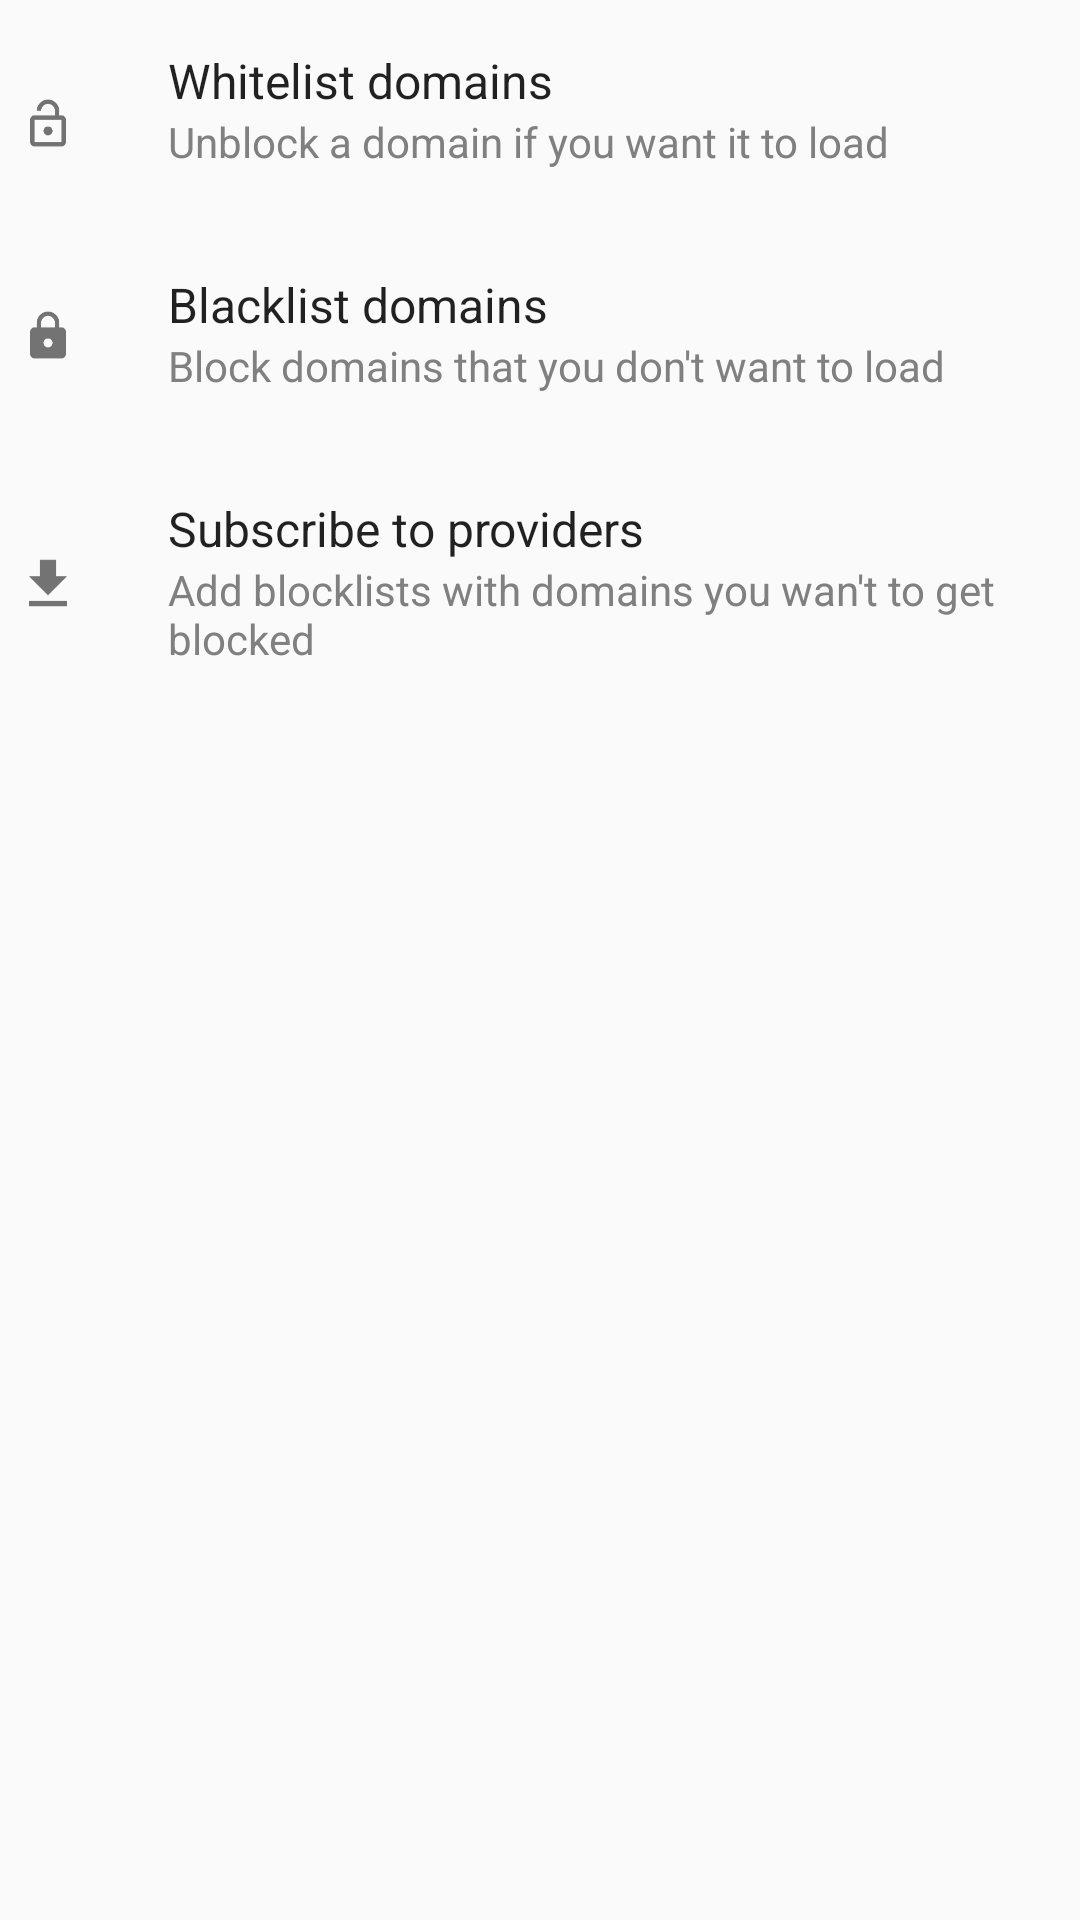

Screen size 1080 × 1920. Icon name, then its center in pixels as point (x, y):
file download: point (48, 583)
lock open: point (48, 123)
